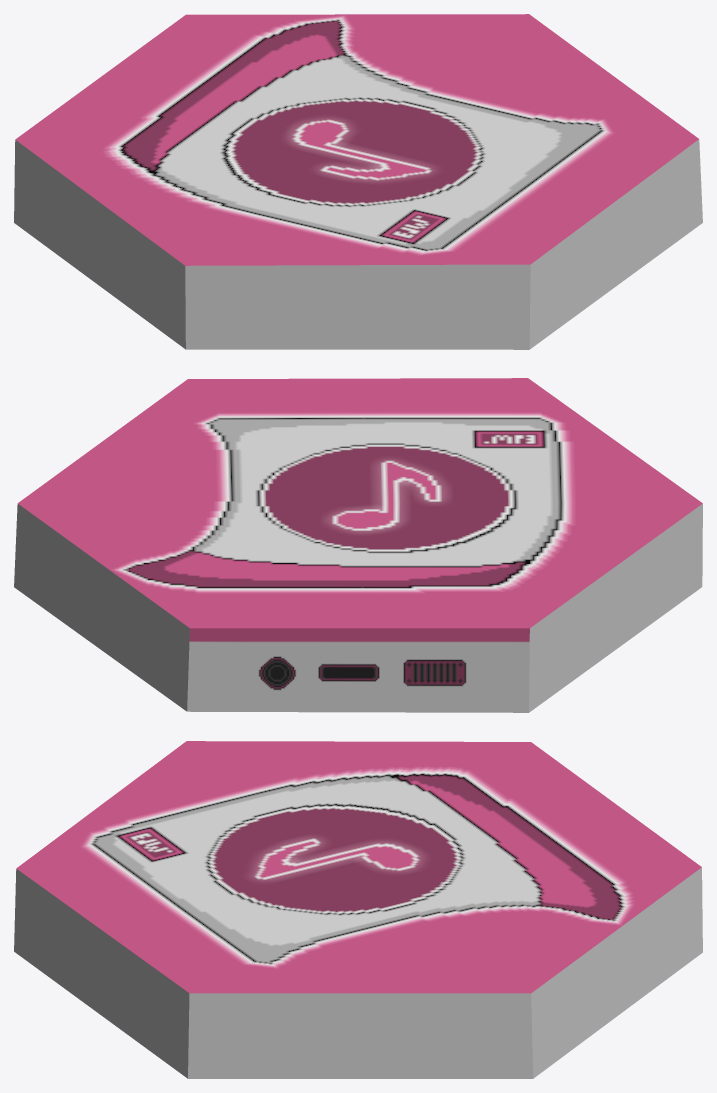
Rendered from MP3 Coin Collider.fbx.
3 views of the same model, one above another, from view 1: azimuth 30°, elevation 25°; view 2: azimuth 150°, elevation 25°; view 3: azimuth 270°, elevation 25° (orthographic).
Parts seen in each view (by area): view 1: (Magenta) MP3 Coin.001; view 2: (Magenta) MP3 Coin.001; view 3: (Magenta) MP3 Coin.001.
Boxes of the visible parts, x1,y1,x2,y2 form: (Magenta) MP3 Coin.001: (14,14,702,349); (Magenta) MP3 Coin.001: (14,378,702,712); (Magenta) MP3 Coin.001: (14,741,702,1078).
Size of the model in its own units: 174 by 26.97 by 200.
